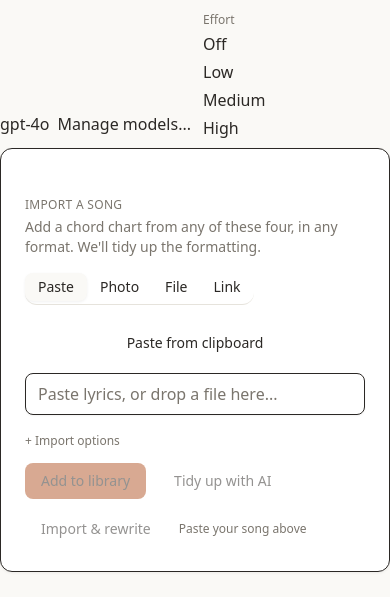
RewriteTab › reads clipboard content when paste button is clicked
Click the button "Paste from clipboard".
click(195, 343)  # box [25,325,365,361]
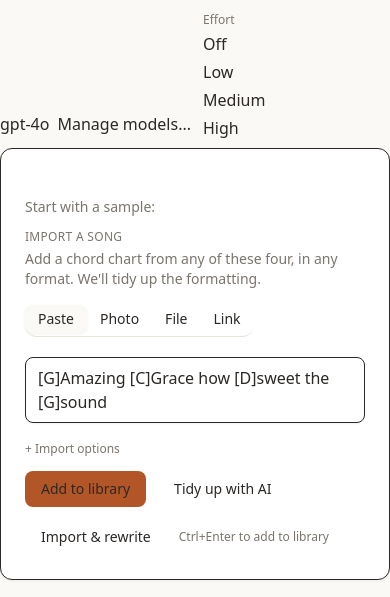
Result: the text box with placeholder "Paste lyrics, or drop a file here..." holds "[G]Amazing [C]Grace how [D]sweet the [G]sound" at [25,357,365,423]
Result: the button "Paste from clipboard" is gone
